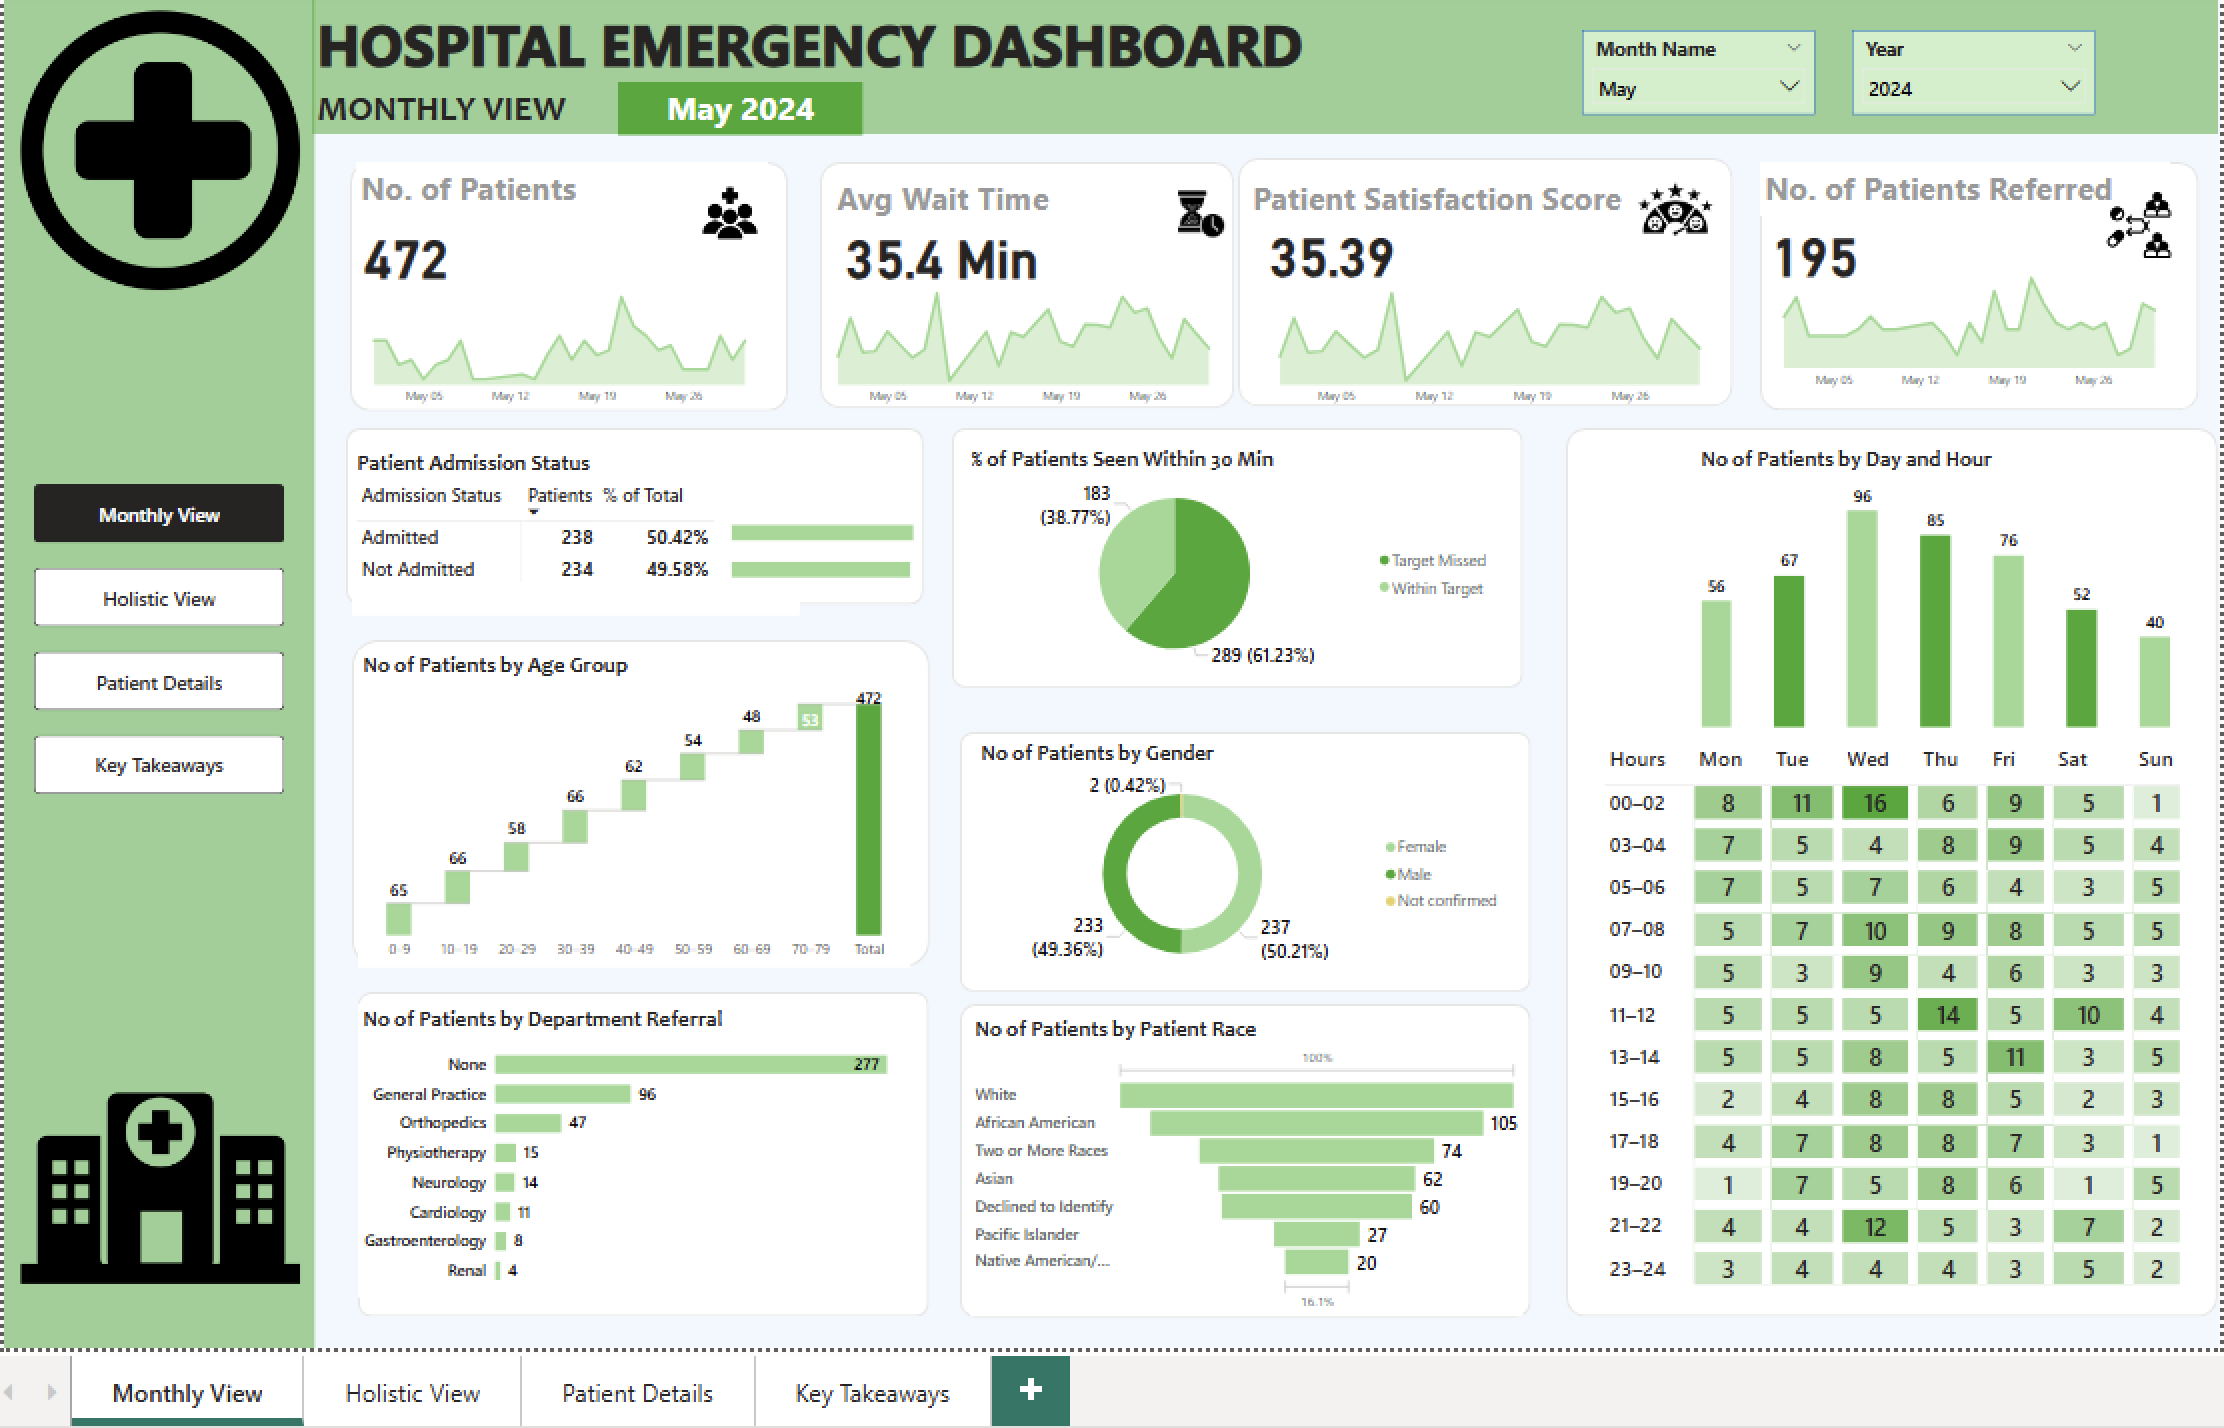

What the dashboard file says about the page in this screenshot:
{"tool":"powerbi","page":{"name":"Monthly View","canvas":[2300,1400],"ordinal":0},"visuals":[{"type":"shape","box":[359.7,167.2,455,258.9],"z":0},{"type":"shape","box":[0,0,323.3,1400],"z":1000},{"type":"shape","box":[323.3,0,1976.7,139.5],"z":2000},{"type":"textbox","box":[320.7,0,1280.6,103.1],"z":3000},{"type":"textbox","box":[320.7,68.7,316.1,71],"z":4000},{"type":"card","fields":{"Values":["Hospital ER_Data.No of Patients"]},"box":[320.9,169.8,195.3,146.5],"z":5000},{"type":"slicer","fields":{"Values":["Date Table.Month Name"]},"box":[1639.5,30.2,241.9,88.4],"z":6000},{"type":"slicer","fields":{"Values":["Date Table.Year"]},"box":[1918.6,30.2,253.5,88.4],"z":7000},{"type":"textbox","box":[366.5,167.2,428.4,57.3],"z":8000},{"type":"areaChart","fields":{"Category":["Date Table.Date.Variation.Date Hierarchy.Day"],"Y":["Hospital ER_Data.No of Patients"]},"box":[359.7,284.1,435.3,144.3],"z":9000},{"type":"card","fields":{"Values":["Min(Date Table.Month & Year)"]},"box":[636.9,84.8,254.3,34.4],"z":10000},{"type":"shape","box":[983.7,444.2,593,269.8],"z":11000},{"type":"shape","box":[846.5,167.4,430.2,255.8],"z":12000},{"type":"areaChart","fields":{"Category":["Date Table.Date.Variation.Date Hierarchy.Day"],"Y":["Avg(Hospital ER_Data.Patient Waittime)"]},"box":[823.3,286,434.9,144.2],"z":13000},{"type":"shape","box":[1281.4,165.1,514,258.1],"z":14000},{"type":"textbox","box":[1293,179.1,407,53.5],"z":15000},{"type":"areaChart","fields":{"Category":["Date Table.Date.Variation.Date Hierarchy.Day"],"Y":["Hospital ER_Data.Satisfaction Score"]},"box":[1302.3,283.7,455.8,144.2],"z":16000},{"type":"shape","box":[1823.3,167.4,455.8,258.1],"z":17000},{"type":"textbox","box":[1830.2,176.7,427.9,55.8],"z":18000},{"type":"areaChart","fields":{"Category":["Date Table.Date.Variation.Date Hierarchy.Day"],"Y":["Hospital ER_Data.No of Patient Referred"]},"box":[1823.5,268,435.3,144.3],"z":19000},{"type":"card","fields":{"Values":["Hospital ER_Data.Avg Wait Time"]},"box":[858.1,209.3,232.6,107],"z":20000},{"type":"card","fields":{"Values":["Hospital ER_Data.Satisfaction Score"]},"box":[1281.4,214,195.3,93],"z":21000},{"type":"shape","box":[367.4,1030.2,593,337.2],"z":22000},{"type":"card","fields":{"Values":["Hospital ER_Data.No of Patient Referred"]},"box":[1795.3,197.7,172.1,125.6],"z":23000},{"type":"shape","box":[355.8,444.2,600,183.7],"z":24000},{"type":"pivotTable","title":"Patient Admission Status","fields":{"Rows":["Hospital ER_Data.Admission Status"],"Values":["Hospital ER_Data.No of Patients1","Hospital ER_Data.No of Patients"]},"box":[360.5,465.1,465.1,174.4],"z":25000},{"type":"barChart","fields":{"Category":["Hospital ER_Data.Admission Status"],"Y":["Hospital ER_Data.No of Patients"]},"box":[748.8,514,248.8,114],"z":26000},{"type":"shape","box":[360.5,665.1,600,339.5],"z":27000},{"type":"clusteredColumnChart","fields":{"Category":["Hospital ER_Data.Age Group"],"Y":["Hospital ER_Data.No of Patients"]},"box":[367.4,674.4,574.4,330.2],"z":28000},{"type":"clusteredBarChart","fields":{"Category":["Hospital ER_Data.Department Referral"],"Y":["Hospital ER_Data.No of Patients"]},"box":[367.4,1041.9,588.4,304.7],"z":29000},{"type":"donutChart","title":"% of Patients Seen  Within  30 Min","fields":{"Category":["Hospital ER_Data.Waitime Status"],"Y":["Hospital ER_Data.No of Patients"]},"box":[997.7,476.7,555.8,237.2],"z":30000},{"type":"shape","box":[993,1041.9,593,325.6],"z":31000},{"type":"shape","box":[993,760.5,593,269.8],"z":32000},{"type":"donutChart","title":"No of Patients by Gender","fields":{"Y":["Hospital ER_Data.No of Patients"],"Category":["Hospital ER_Data.Patient Gender"]},"box":[1009.3,767.4,555.8,253.5],"z":33000},{"type":"clusteredBarChart","fields":{"Y":["Hospital ER_Data.No of Patients"],"Category":["Hospital ER_Data.Patient Race"]},"box":[1002.3,1053.5,574.4,314],"z":34000},{"type":"shape","box":[1623.3,444.2,676.7,923.3],"z":35000},{"type":"pivotTable","fields":{"Rows":["Hospital ER_Data.Waittime Interval"],"Columns":["Date Table.Day Name"],"Values":["Hospital ER_Data.No of Patients"]},"box":[1658.1,767.4,620.9,586],"z":36000},{"type":"columnChart","title":"No of Patients by Day and Hour","fields":{"Category":["Date Table.Day Name"],"Y":["Hospital ER_Data.No of Patients"]},"box":[1758.1,460.5,500,300],"z":37000},{"type":"image","box":[711.6,181.4,83.7,81.4],"z":38000},{"type":"image","box":[1195.3,193,97.7,58.1],"z":39000},{"type":"image","box":[1683.7,169.8,102.3,93],"z":40000},{"type":"image","box":[2176.7,188.4,81.4,88.4],"z":41000},{"type":"textbox","box":[858.1,179.1,293,48.8],"z":42000},{"type":"image","box":[0,23.3,300,300],"z":43000},{"type":"image","box":[11.6,1083.7,300,300],"z":44000}]}

Visuals, with their boxes on the page's 2300x1400 design canvas (x1, y1, x2, y2). These are canvas units, not pixel positions in the 2224x1428 screenshot, which may show the page scaled, cropped or inside an application window:
shape: box(360, 167, 815, 426)
shape: box(0, 0, 323, 1400)
shape: box(323, 0, 2300, 140)
textbox: box(321, 0, 1601, 103)
textbox: box(321, 69, 637, 140)
card - Hospital ER_Data.No of Patients: box(321, 170, 516, 316)
slicer - Date Table.Month Name: box(1640, 30, 1881, 119)
slicer - Date Table.Year: box(1919, 30, 2172, 119)
textbox: box(366, 167, 795, 224)
areaChart - Date Table.Date.Variation.Date Hierarchy.Day x Hospital ER_Data.No of Patients: box(360, 284, 795, 428)
card - Min(Date Table.Month & Year): box(637, 85, 891, 119)
shape: box(984, 444, 1577, 714)
shape: box(846, 167, 1277, 423)
areaChart - Date Table.Date.Variation.Date Hierarchy.Day x Avg(Hospital ER_Data.Patient Waittime): box(823, 286, 1258, 430)
shape: box(1281, 165, 1795, 423)
textbox: box(1293, 179, 1700, 233)
areaChart - Date Table.Date.Variation.Date Hierarchy.Day x Hospital ER_Data.Satisfaction Score: box(1302, 284, 1758, 428)
shape: box(1823, 167, 2279, 426)
textbox: box(1830, 177, 2258, 232)
areaChart - Date Table.Date.Variation.Date Hierarchy.Day x Hospital ER_Data.No of Patient Referred: box(1824, 268, 2259, 412)
card - Hospital ER_Data.Avg Wait Time: box(858, 209, 1091, 316)
card - Hospital ER_Data.Satisfaction Score: box(1281, 214, 1477, 307)
shape: box(367, 1030, 960, 1367)
card - Hospital ER_Data.No of Patient Referred: box(1795, 198, 1967, 323)
shape: box(356, 444, 956, 628)
"Patient Admission Status" pivotTable: box(360, 465, 826, 640)
barChart - Hospital ER_Data.Admission Status x Hospital ER_Data.No of Patients: box(749, 514, 998, 628)
shape: box(360, 665, 960, 1005)
clusteredColumnChart - Hospital ER_Data.Age Group x Hospital ER_Data.No of Patients: box(367, 674, 942, 1005)
clusteredBarChart - Hospital ER_Data.Department Referral x Hospital ER_Data.No of Patients: box(367, 1042, 956, 1347)
"% of Patients Seen  Within  30 Min" donutChart: box(998, 477, 1554, 714)
shape: box(993, 1042, 1586, 1368)
shape: box(993, 760, 1586, 1030)
"No of Patients by Gender" donutChart: box(1009, 767, 1565, 1021)
clusteredBarChart - Hospital ER_Data.No of Patients x Hospital ER_Data.Patient Race: box(1002, 1054, 1577, 1368)
shape: box(1623, 444, 2300, 1368)
pivotTable - Hospital ER_Data.Waittime Interval x Date Table.Day Name: box(1658, 767, 2279, 1353)
"No of Patients by Day and Hour" columnChart: box(1758, 460, 2258, 760)
image: box(712, 181, 795, 263)
image: box(1195, 193, 1293, 251)
image: box(1684, 170, 1786, 263)
image: box(2177, 188, 2258, 277)
textbox: box(858, 179, 1151, 228)
image: box(0, 23, 300, 323)
image: box(12, 1084, 312, 1384)
